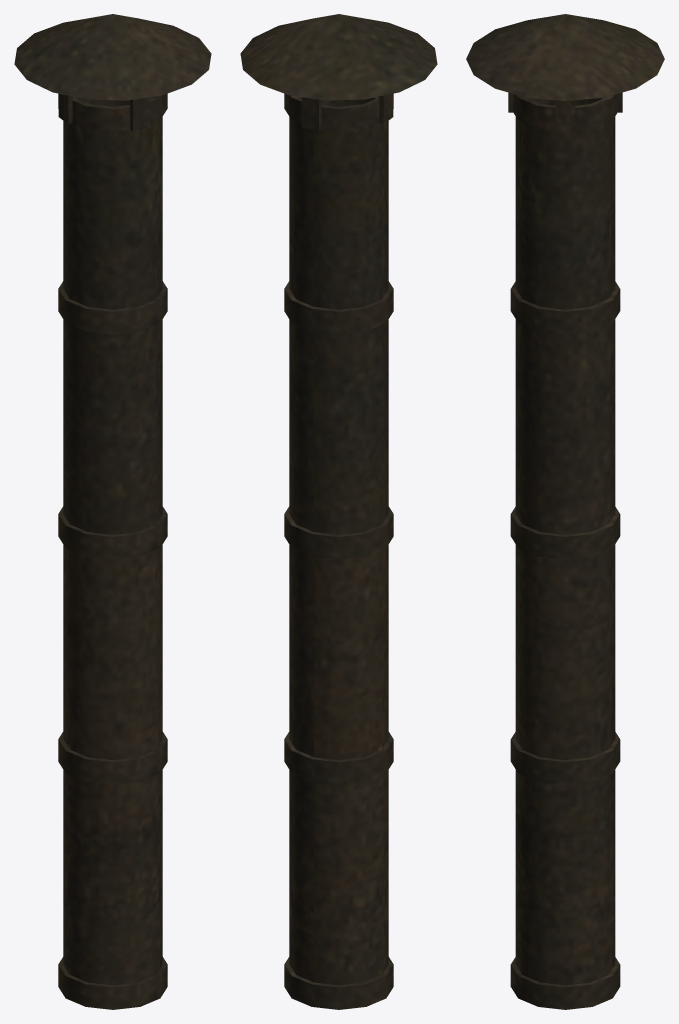
File: chimney_a_4_1.dae
3 views of the same model, side by side, from view 1: azimuth 30°, elevation 25°; view 2: azimuth 150°, elevation 25°; view 3: azimuth 270°, elevation 25° (orthographic).
Parts seen in each view (by area): view 1: chimney_a_4_1; view 2: chimney_a_4_1; view 3: chimney_a_4_1.
Part boxes in pixels (<box>): chimney_a_4_1: <box>14,14,211,1009</box>; chimney_a_4_1: <box>240,14,437,1009</box>; chimney_a_4_1: <box>466,14,664,1009</box>.
Size of the model in its own units: 0.4 by 0.4 by 2.16.
Materials: 1 (1 with a texture image).
